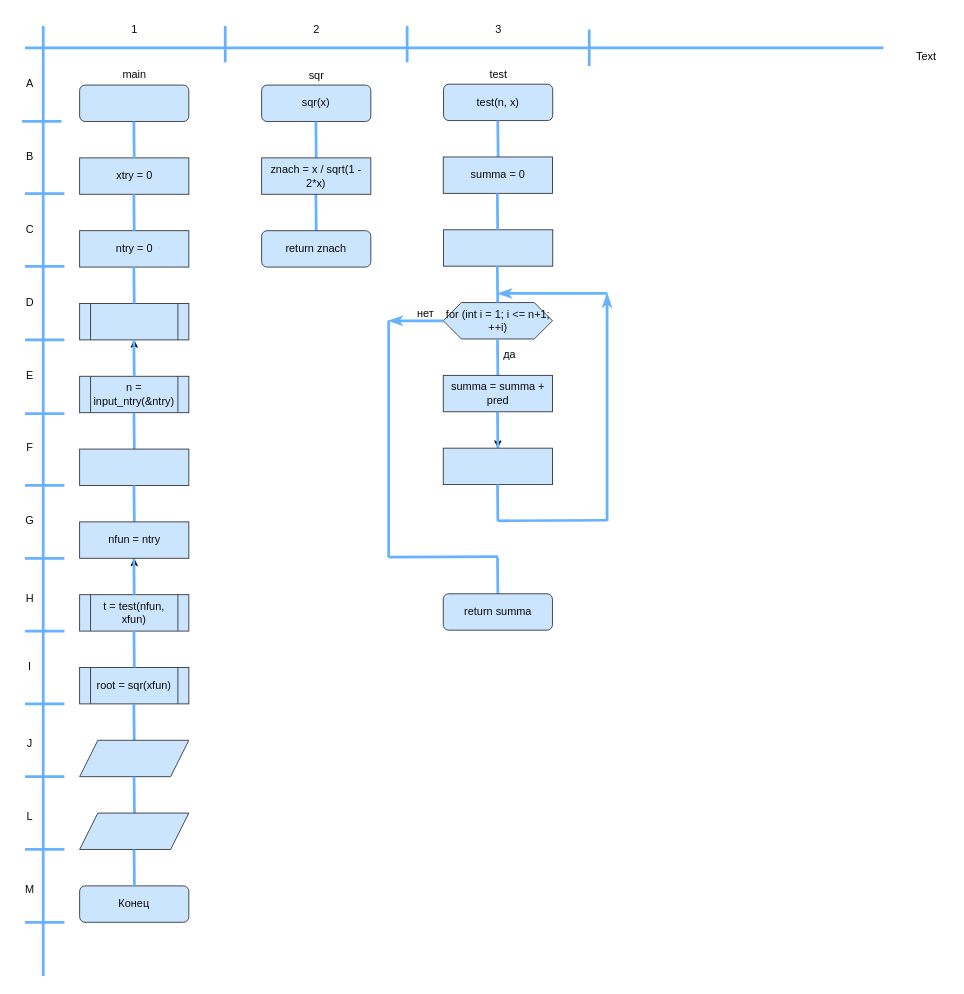
Image size: 964x994. Some labels were removed from this diagram. Each missing label, with the centre of its shape:
"pred = pred * x * (2 * i - 1)/i" goes at (497,466).
"pred = x" goes at (498,247).
"x = input_xtry(&xtry)" goes at (134,321).
"xfun = xtry" goes at (134,466).
"вывод root" goes at (134,758).
"вывод t" goes at (134,830).
"Начало" goes at (134,102).
